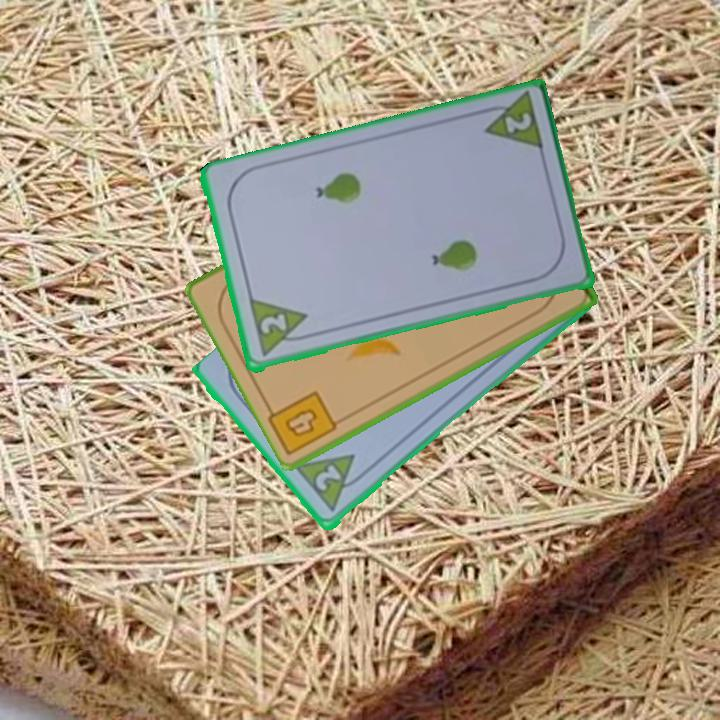2p: (245, 296, 315, 361), (475, 91, 546, 155), (311, 461, 344, 495)
4b: (281, 405, 321, 441)
